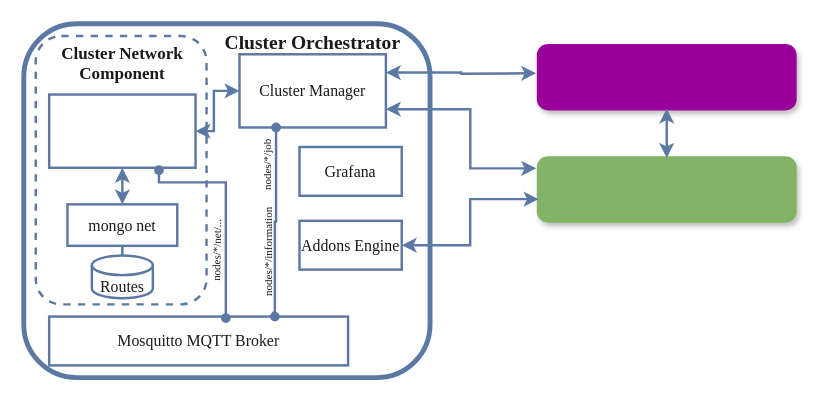
Image size: 825x400. Some labels were removed from this diagram. Here are the shapes that lost their labels. From the top down, the centre of each, then its label:
(667,78): Cluster Scheduler
(121,130): Cluster Service Manager
(667,191): Cluster Resource Abstractor
